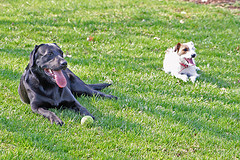tennis ball: (80, 115, 95, 128)
